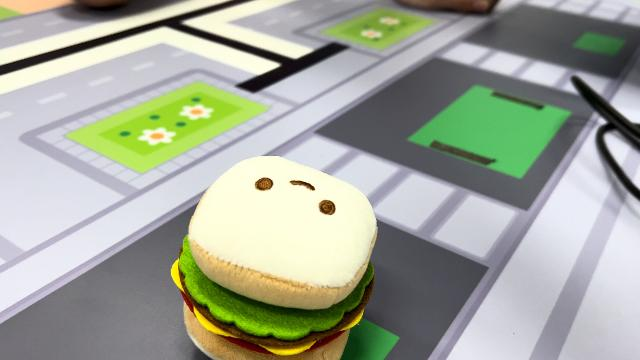sandwich: (170, 153, 380, 357)
